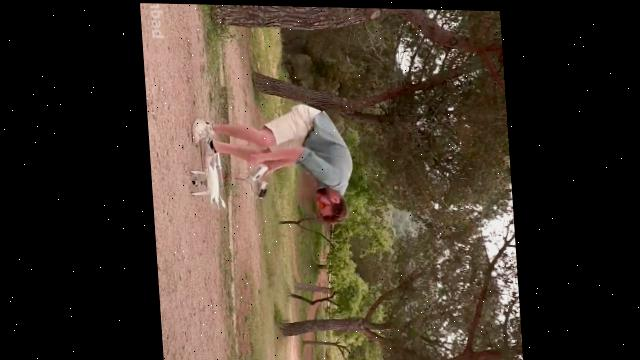drone: (184, 152, 229, 209)
